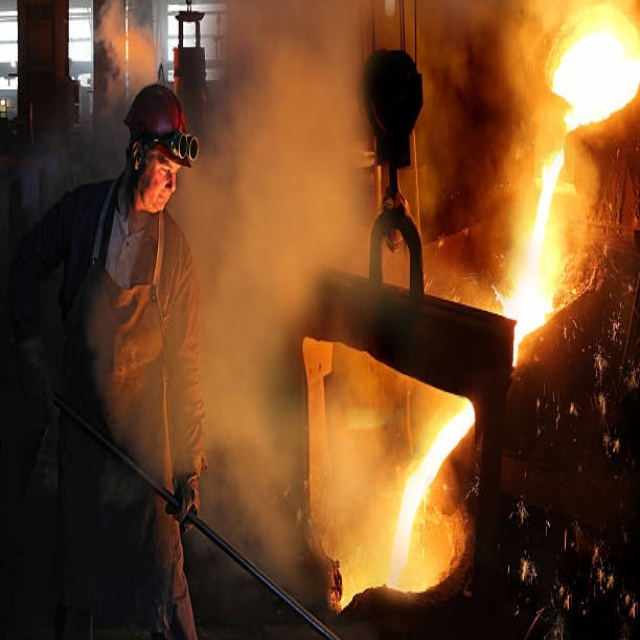Guantes: (165, 469, 204, 530)
Sin_gafas: (146, 154, 185, 184)
Sin_mascara: (150, 187, 172, 209)
